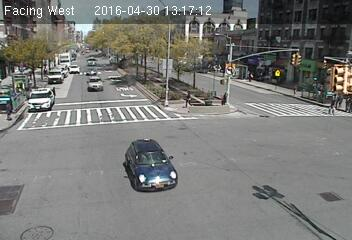neg: (265, 159, 290, 191), (215, 137, 238, 167), (257, 107, 277, 134), (251, 27, 271, 53), (222, 20, 242, 46), (78, 65, 97, 91), (118, 60, 137, 85), (197, 22, 214, 44), (284, 78, 300, 100), (147, 94, 163, 115), (281, 36, 295, 54), (142, 52, 155, 71), (169, 32, 182, 50), (174, 152, 187, 168), (160, 119, 170, 132), (65, 76, 74, 88), (103, 67, 111, 78)
pos: (326, 95, 341, 115), (1, 98, 15, 117), (21, 82, 32, 98), (309, 85, 320, 100), (221, 90, 231, 105), (184, 90, 194, 104), (343, 95, 351, 111), (247, 71, 256, 83)
